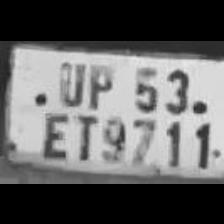1: (185, 112, 215, 166), (159, 113, 187, 166)
3: (160, 62, 190, 112)
5: (128, 64, 162, 112)
7: (126, 113, 156, 165)
9: (98, 109, 126, 159)
E: (38, 106, 70, 160)
P: (82, 60, 116, 108)
T: (68, 109, 98, 161)
U: (54, 57, 84, 105)
